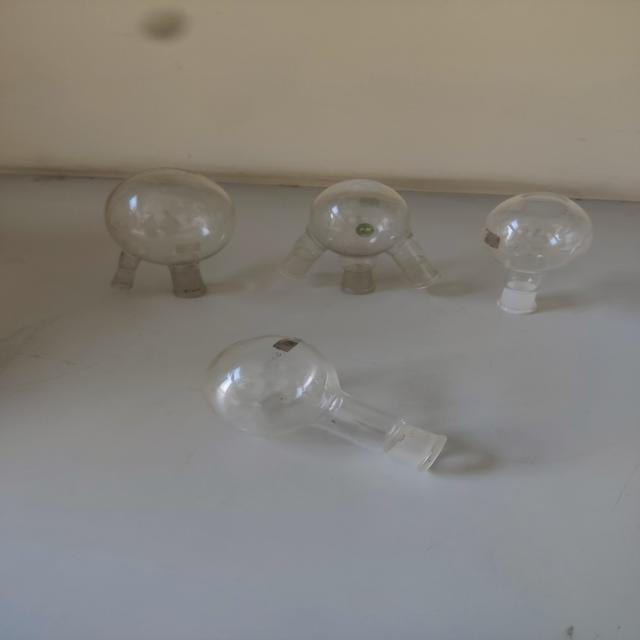Round_Bottom_Flask_Borosilicate_Glass_1_Neck: (178, 313, 470, 507), (470, 170, 606, 338)
Round_Bottom_Flask_Borosilicate_Glass_2_Neck: (88, 165, 254, 319)
Round_Bottom_Flask_Borosilicate_Glass_3_Neck: (265, 138, 446, 311)
